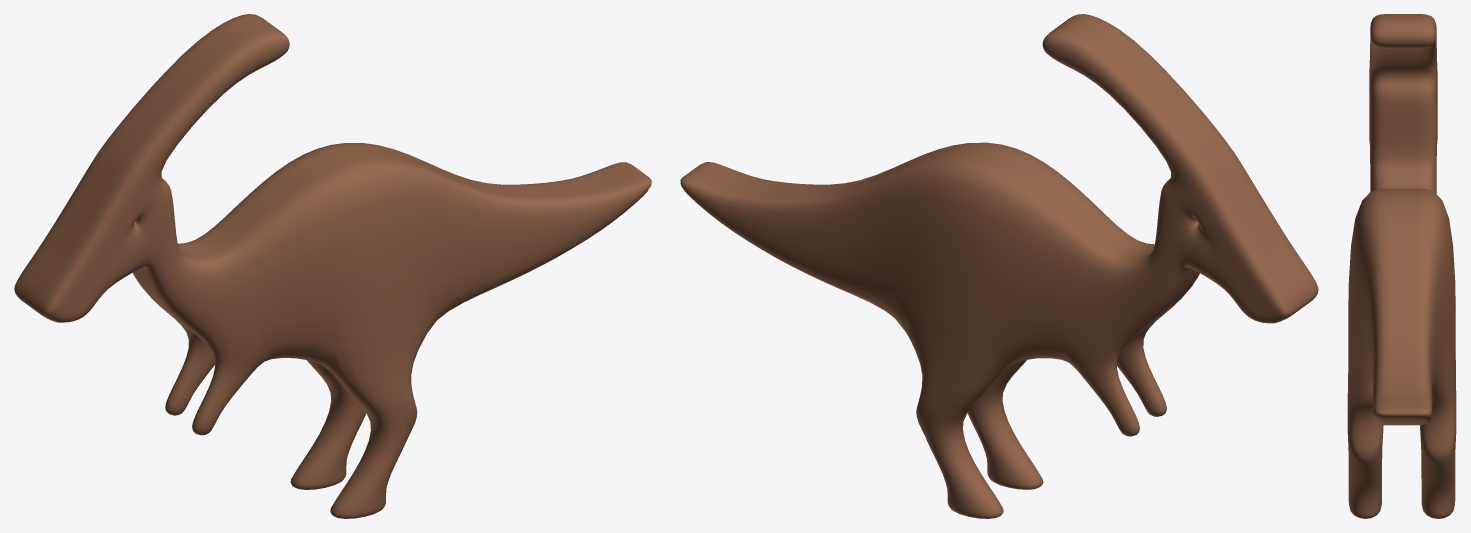
Rendered from Parasaurolophus.fbx.
The picture shows the model from 3 angles, left to right: view 1: azimuth 30°, elevation 25°; view 2: azimuth 150°, elevation 25°; view 3: azimuth 270°, elevation 25°; orthographic projection. The views are drawn at different scales.
Visible parts, largest first — view 1: Dino1.001; view 2: Dino1.001; view 3: Dino1.001.
Part boxes in pixels (box(x1,y1,x2,y2)): Dino1.001: box(14, 14, 651, 518); Dino1.001: box(680, 14, 1318, 518); Dino1.001: box(1347, 14, 1456, 518).
Bounding box in the file's own units: 348 × 269 × 58.44.
